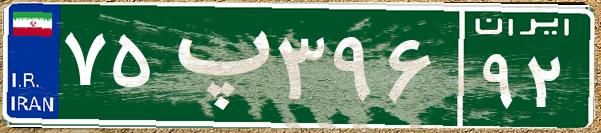2: (525, 38, 570, 115)
3: (273, 28, 330, 110)
5: (110, 28, 158, 105)
6: (385, 28, 445, 110)
7: (57, 26, 110, 107)
9: (330, 28, 385, 110), (475, 38, 525, 113)
پ: (158, 15, 273, 115)
